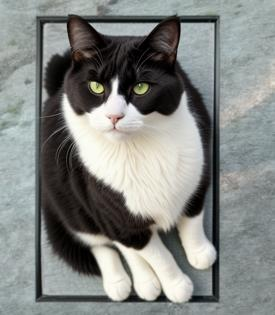cat: (35, 15, 219, 302)
